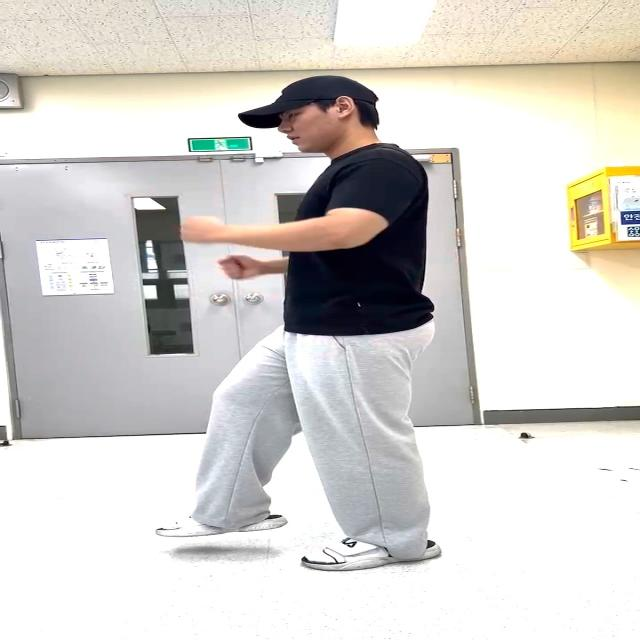leg: (159, 347, 282, 538)
